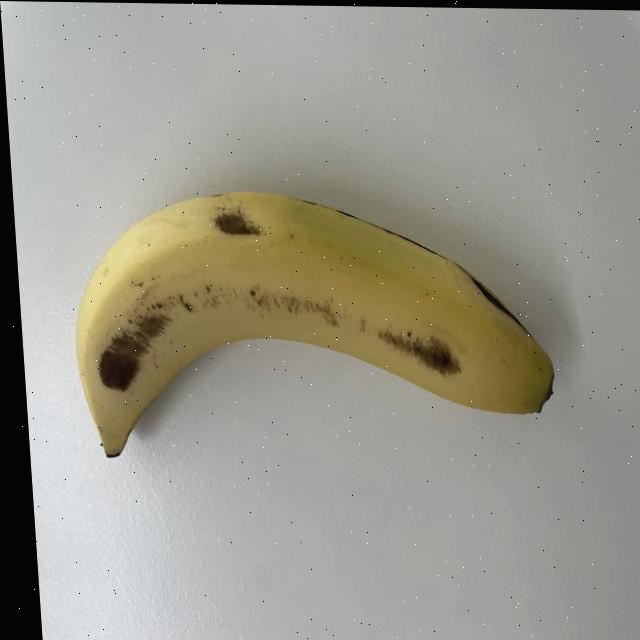banana: (63, 190, 561, 466)
